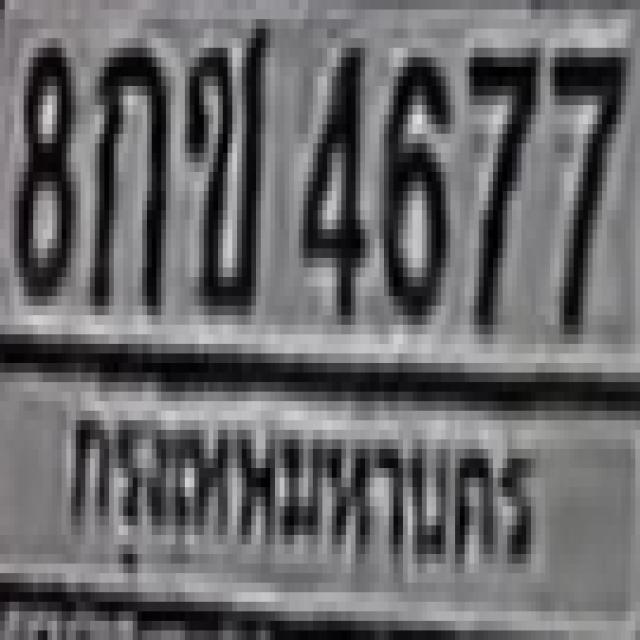4: (299, 38, 360, 315)
6: (379, 48, 446, 315)
7: (464, 38, 536, 325), (550, 38, 621, 325)
8: (10, 38, 71, 287)
A01: (85, 38, 166, 306)
A10: (185, 9, 265, 306)
BKK: (56, 392, 543, 595)
